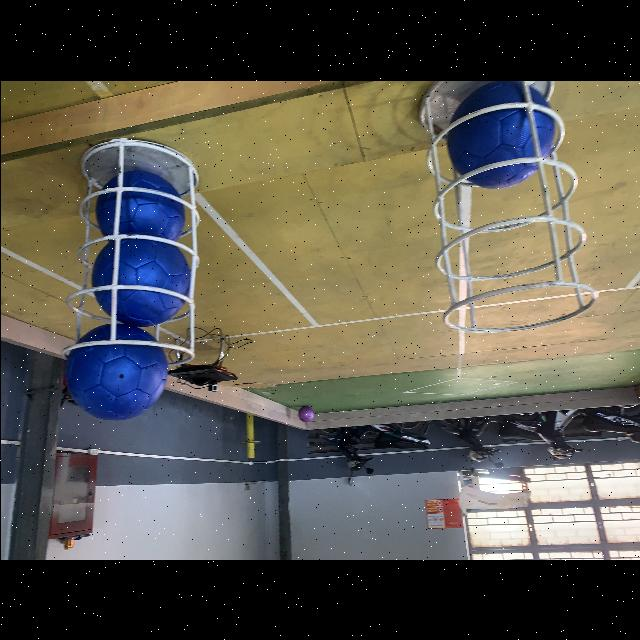B: (446, 88, 556, 190), (64, 322, 170, 422), (90, 238, 188, 328), (92, 167, 188, 245)
